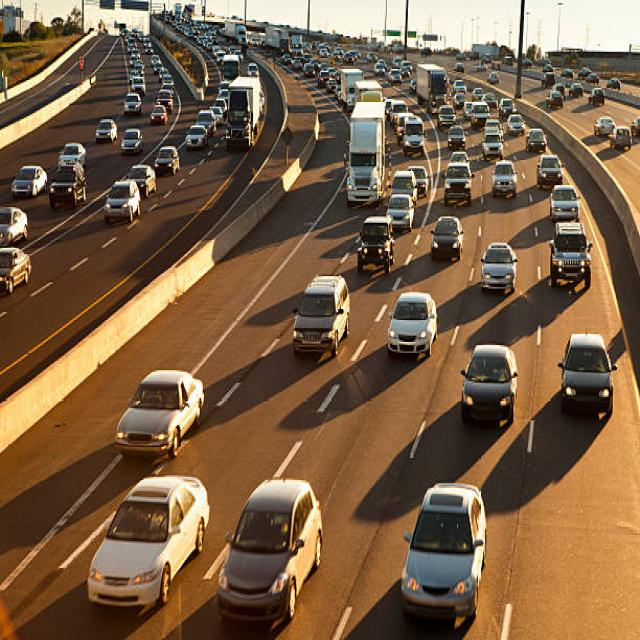Car: (87, 474, 210, 608), (217, 476, 323, 628), (399, 481, 486, 626), (114, 367, 204, 458), (556, 331, 617, 416), (459, 342, 518, 427), (291, 273, 350, 358), (387, 290, 437, 359), (479, 240, 518, 295), (0, 246, 31, 294), (430, 215, 463, 260), (11, 163, 47, 199), (0, 206, 28, 247)
Truck: (344, 100, 386, 206)
